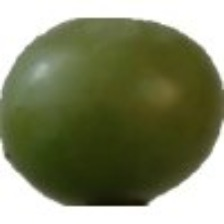grapes: (33, 50, 184, 194)
